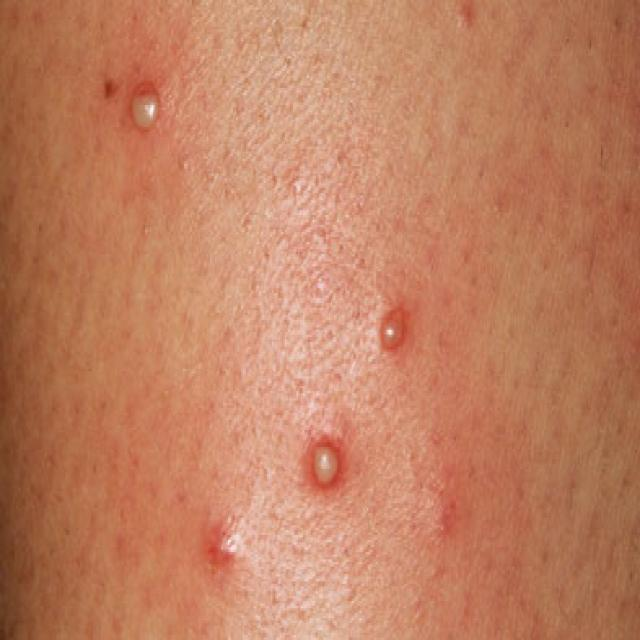blackheads: (120, 71, 166, 148), (375, 278, 415, 362), (305, 429, 350, 500), (212, 515, 252, 576)
